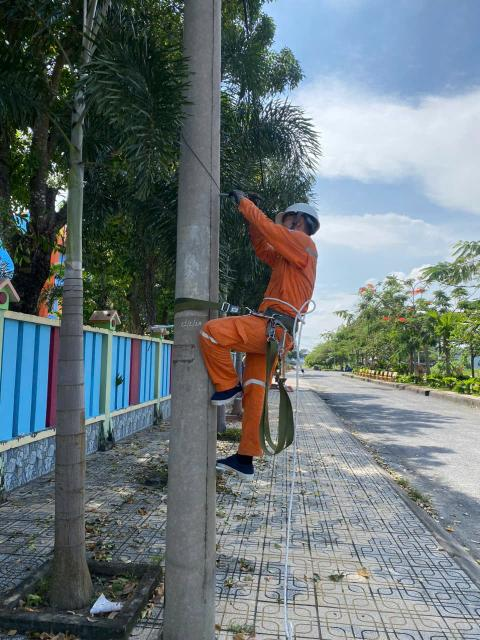gloves: (216, 177, 247, 209)
harness: (248, 295, 307, 344)
helmet: (270, 195, 332, 246)
shoes: (205, 376, 247, 412), (215, 444, 251, 481)
